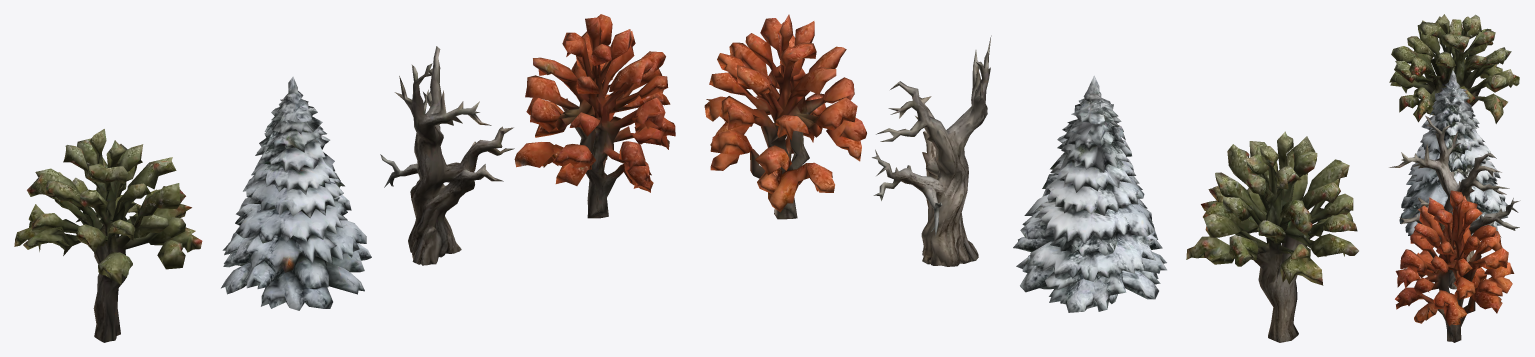
File: trees_season.glb
3 renders of one model, left to right at view 1: azimuth 30°, elevation 25°; view 2: azimuth 150°, elevation 25°; view 3: azimuth 270°, elevation 25°, orthographic. The views are drawn at different scales.
Visible parts, largest first — view 1: fir_snow, maple_autumn, apple, dead_tree; view 2: fir_snow, maple_autumn, apple, dead_tree; view 3: maple_autumn, apple, fir_snow, dead_tree.
Boxes of the visible parts, bbox=[...] form: fir_snow: bbox=[221, 76, 371, 310]; maple_autumn: bbox=[514, 14, 675, 218]; apple: bbox=[14, 129, 202, 342]; dead_tree: bbox=[380, 46, 514, 265]; fir_snow: bbox=[1013, 75, 1166, 312]; maple_autumn: bbox=[704, 14, 866, 219]; apple: bbox=[1186, 131, 1358, 342]; dead_tree: bbox=[872, 35, 991, 266]; maple_autumn: bbox=[1395, 190, 1514, 342]; apple: bbox=[1389, 14, 1519, 123]; fir_snow: bbox=[1399, 70, 1507, 235]; dead_tree: bbox=[1389, 115, 1520, 289].
Bounding box in the file's own units: 1.06 × 0.3333 × 0.2523.
1 material, 1 textured.
